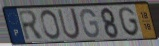8: (99, 6, 120, 40)
G: (118, 6, 141, 38), (79, 8, 101, 40)
O: (39, 9, 63, 41)
R: (17, 10, 46, 42)
U: (56, 7, 82, 41)
